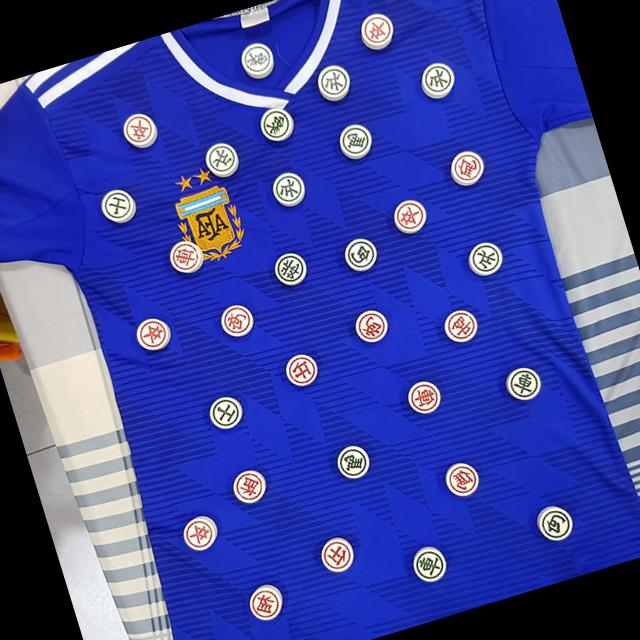black-advisor: (198, 390, 251, 440), (94, 180, 140, 230)
black-cannon: (527, 492, 579, 546), (340, 233, 386, 277)
black-chariot: (405, 536, 456, 587), (498, 357, 550, 407)
black-elephant: (225, 21, 297, 92), (248, 94, 310, 155)
black-general: (262, 243, 316, 295)
black-horse: (326, 436, 381, 490), (331, 117, 383, 165)
black-soldier: (302, 52, 361, 110), (458, 232, 513, 287), (194, 134, 248, 188), (408, 56, 466, 106), (264, 161, 312, 208)
red-advisor: (270, 339, 328, 396), (310, 526, 360, 579)
red-cannon: (348, 296, 398, 349), (214, 292, 262, 342)
red-chariot: (158, 226, 214, 283), (396, 372, 449, 422)
red-elephant: (222, 452, 284, 514), (240, 569, 292, 628)
red-general: (434, 296, 484, 349)
red-horse: (436, 450, 490, 502), (442, 142, 491, 194)
red-soldier: (348, 0, 402, 56), (114, 98, 168, 154), (174, 506, 222, 560), (386, 190, 435, 241), (128, 311, 180, 358)
